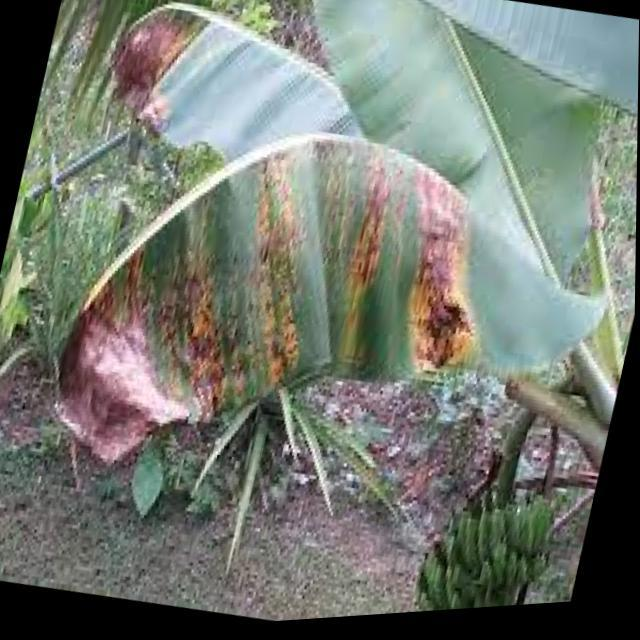Early_rust: (35, 140, 538, 458), (71, 0, 219, 143)
